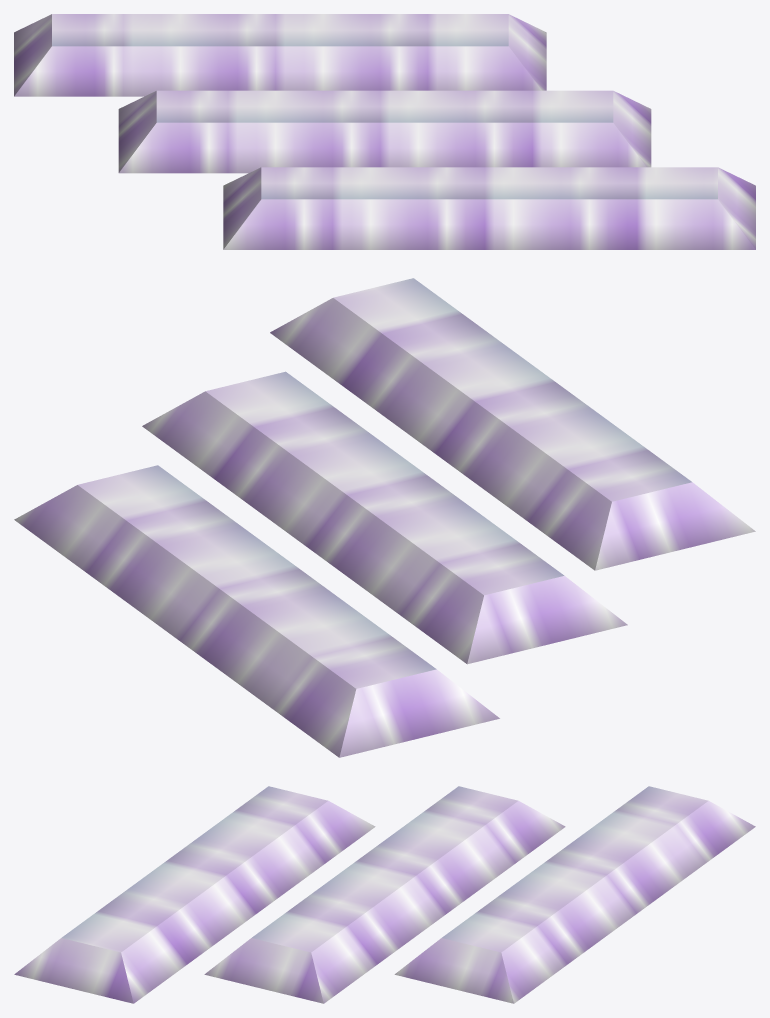
Rendered from rune_style_e_active.obj.
3 renders of one model, top to bottom at view 1: azimuth 30°, elevation 25°; view 2: azimuth 150°, elevation 25°; view 3: azimuth 270°, elevation 25°, orthographic. The views are drawn at different scales.
Visible parts, largest first — view 1: RUNE_STYLE_E_ACTIVE_Plane.026; view 2: RUNE_STYLE_E_ACTIVE_Plane.026; view 3: RUNE_STYLE_E_ACTIVE_Plane.026.
Boxes of the visible parts, bbox=[...] form: RUNE_STYLE_E_ACTIVE_Plane.026: bbox=[14, 14, 755, 249]; RUNE_STYLE_E_ACTIVE_Plane.026: bbox=[14, 278, 755, 757]; RUNE_STYLE_E_ACTIVE_Plane.026: bbox=[14, 786, 755, 1003].
Bounding box in the file's own units: 0.4414 × 0.0312 × 0.6708.
